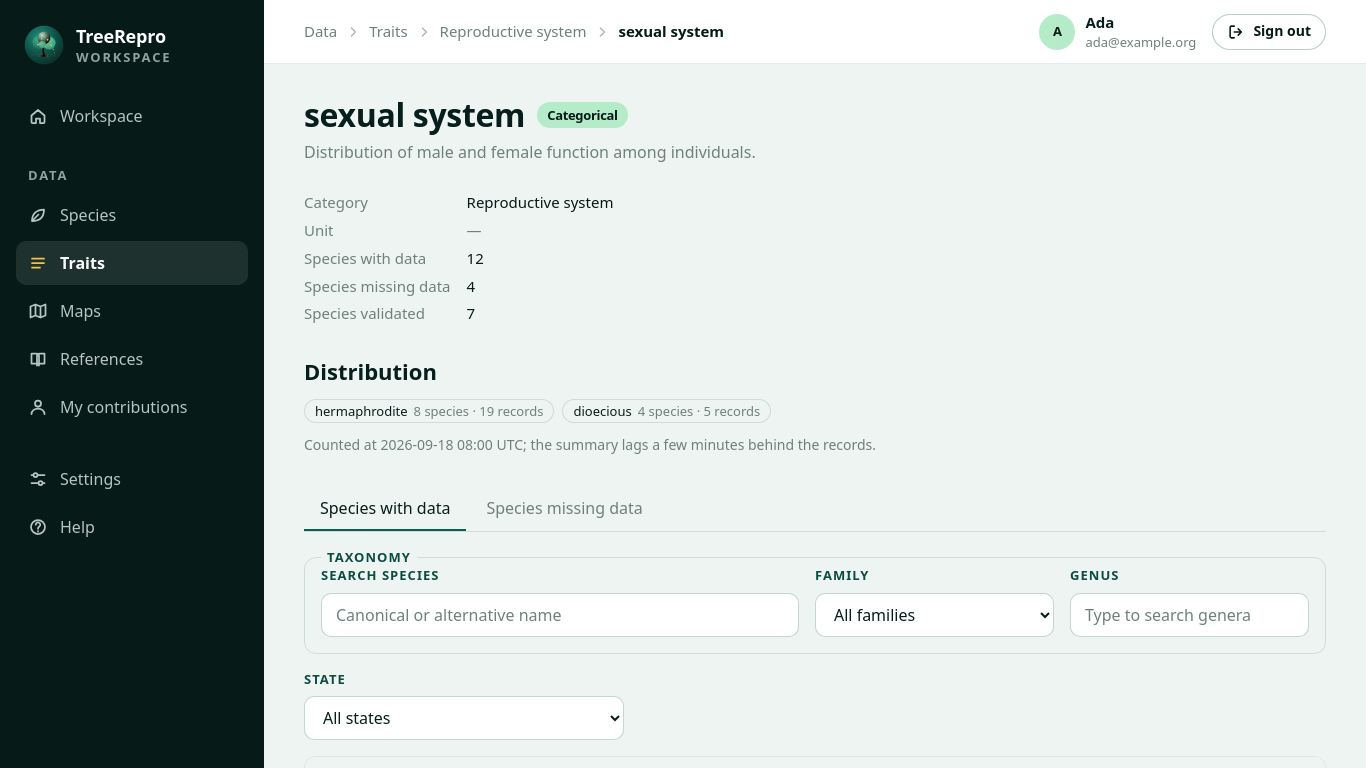
Scenario: RFC-62 R8 TraitPage species tabs › filters the species with data by a state, from the State select or a Distribution chip (issue #309)
This screenshot has width=1366, height=768.
Step 1. Select "dioecious" in the dropdown labelled "State" → (464, 718), box [304,696,624,740]
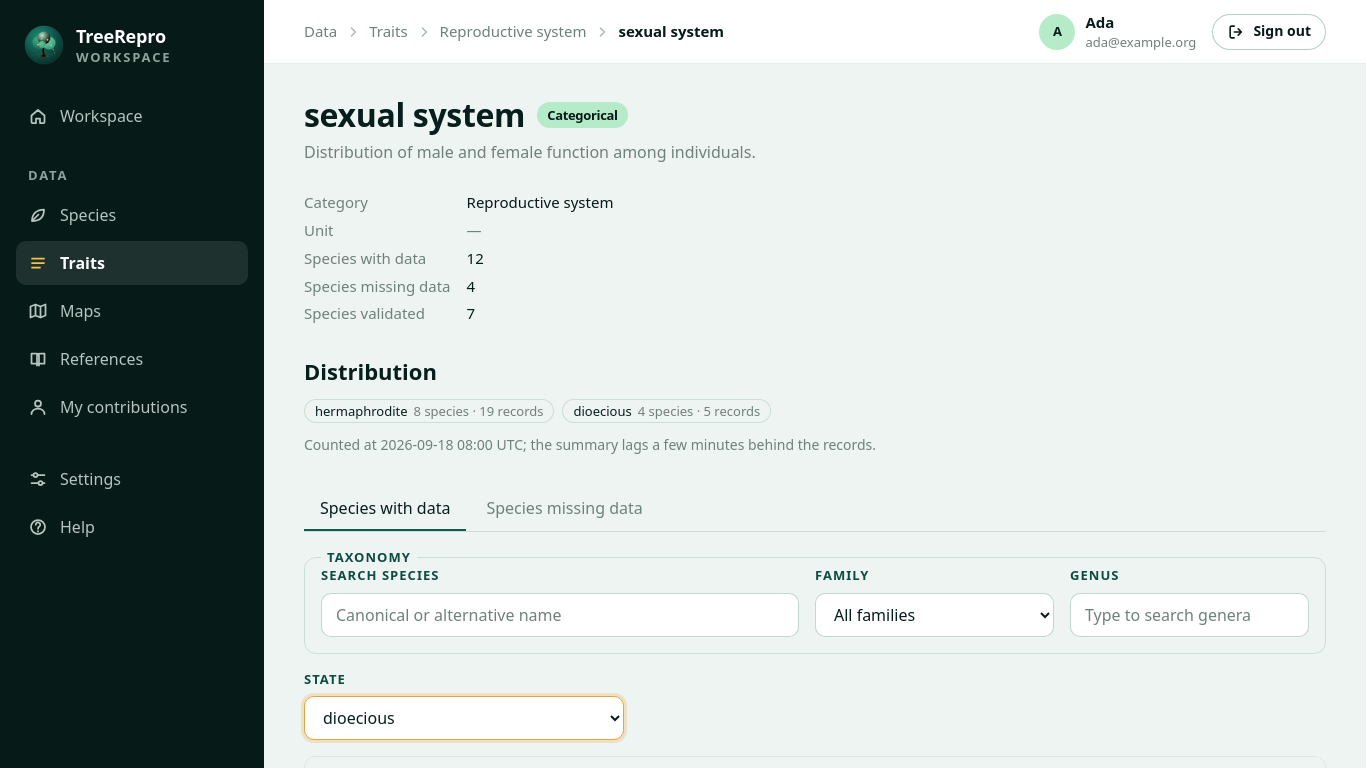
Step 2. Click the link with aria-label "Show the species with hermaphrodite" → (429, 410), box [304,399,554,421]
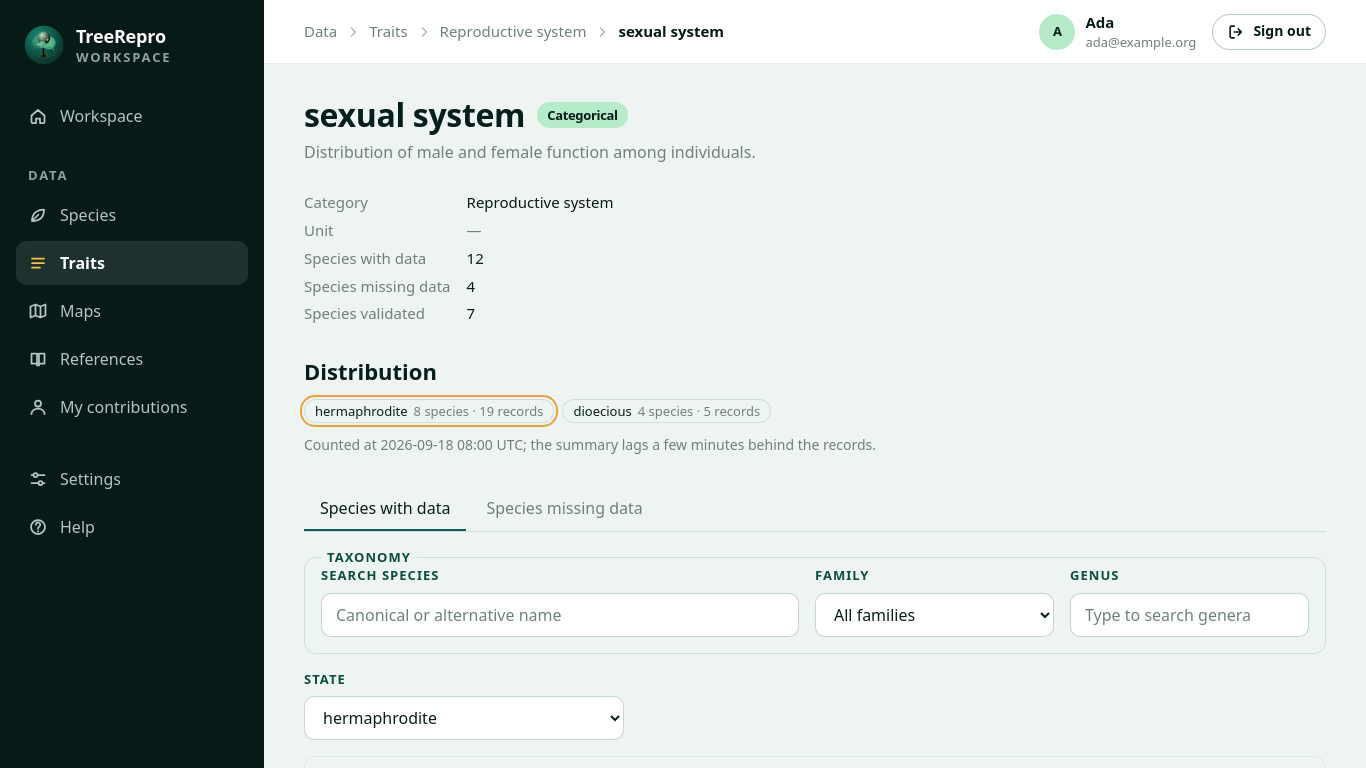
Note: A species missing the trait has no state: the missing tab drops it.
Step 3. Click the tab "Species missing data" → (565, 509), box [470,487,659,531]
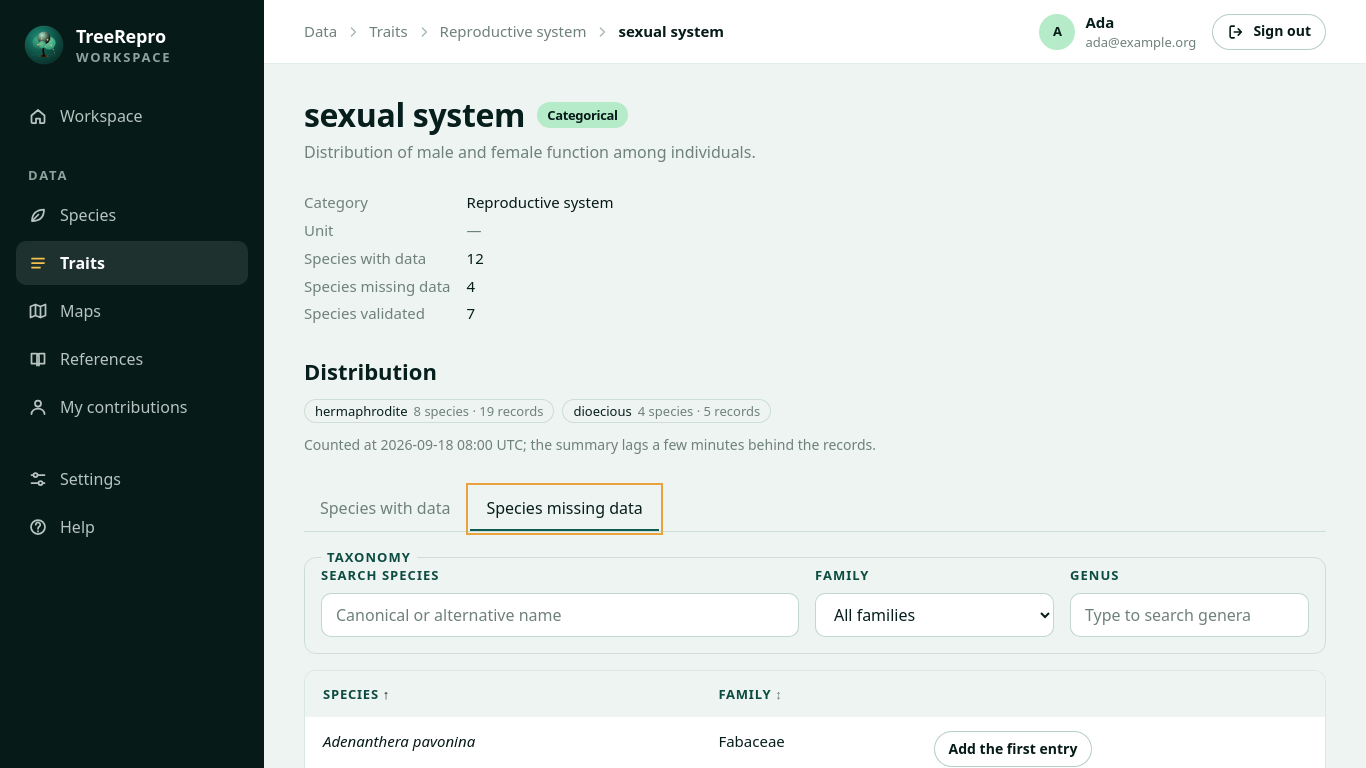
Now the label labelled "State" is gone
